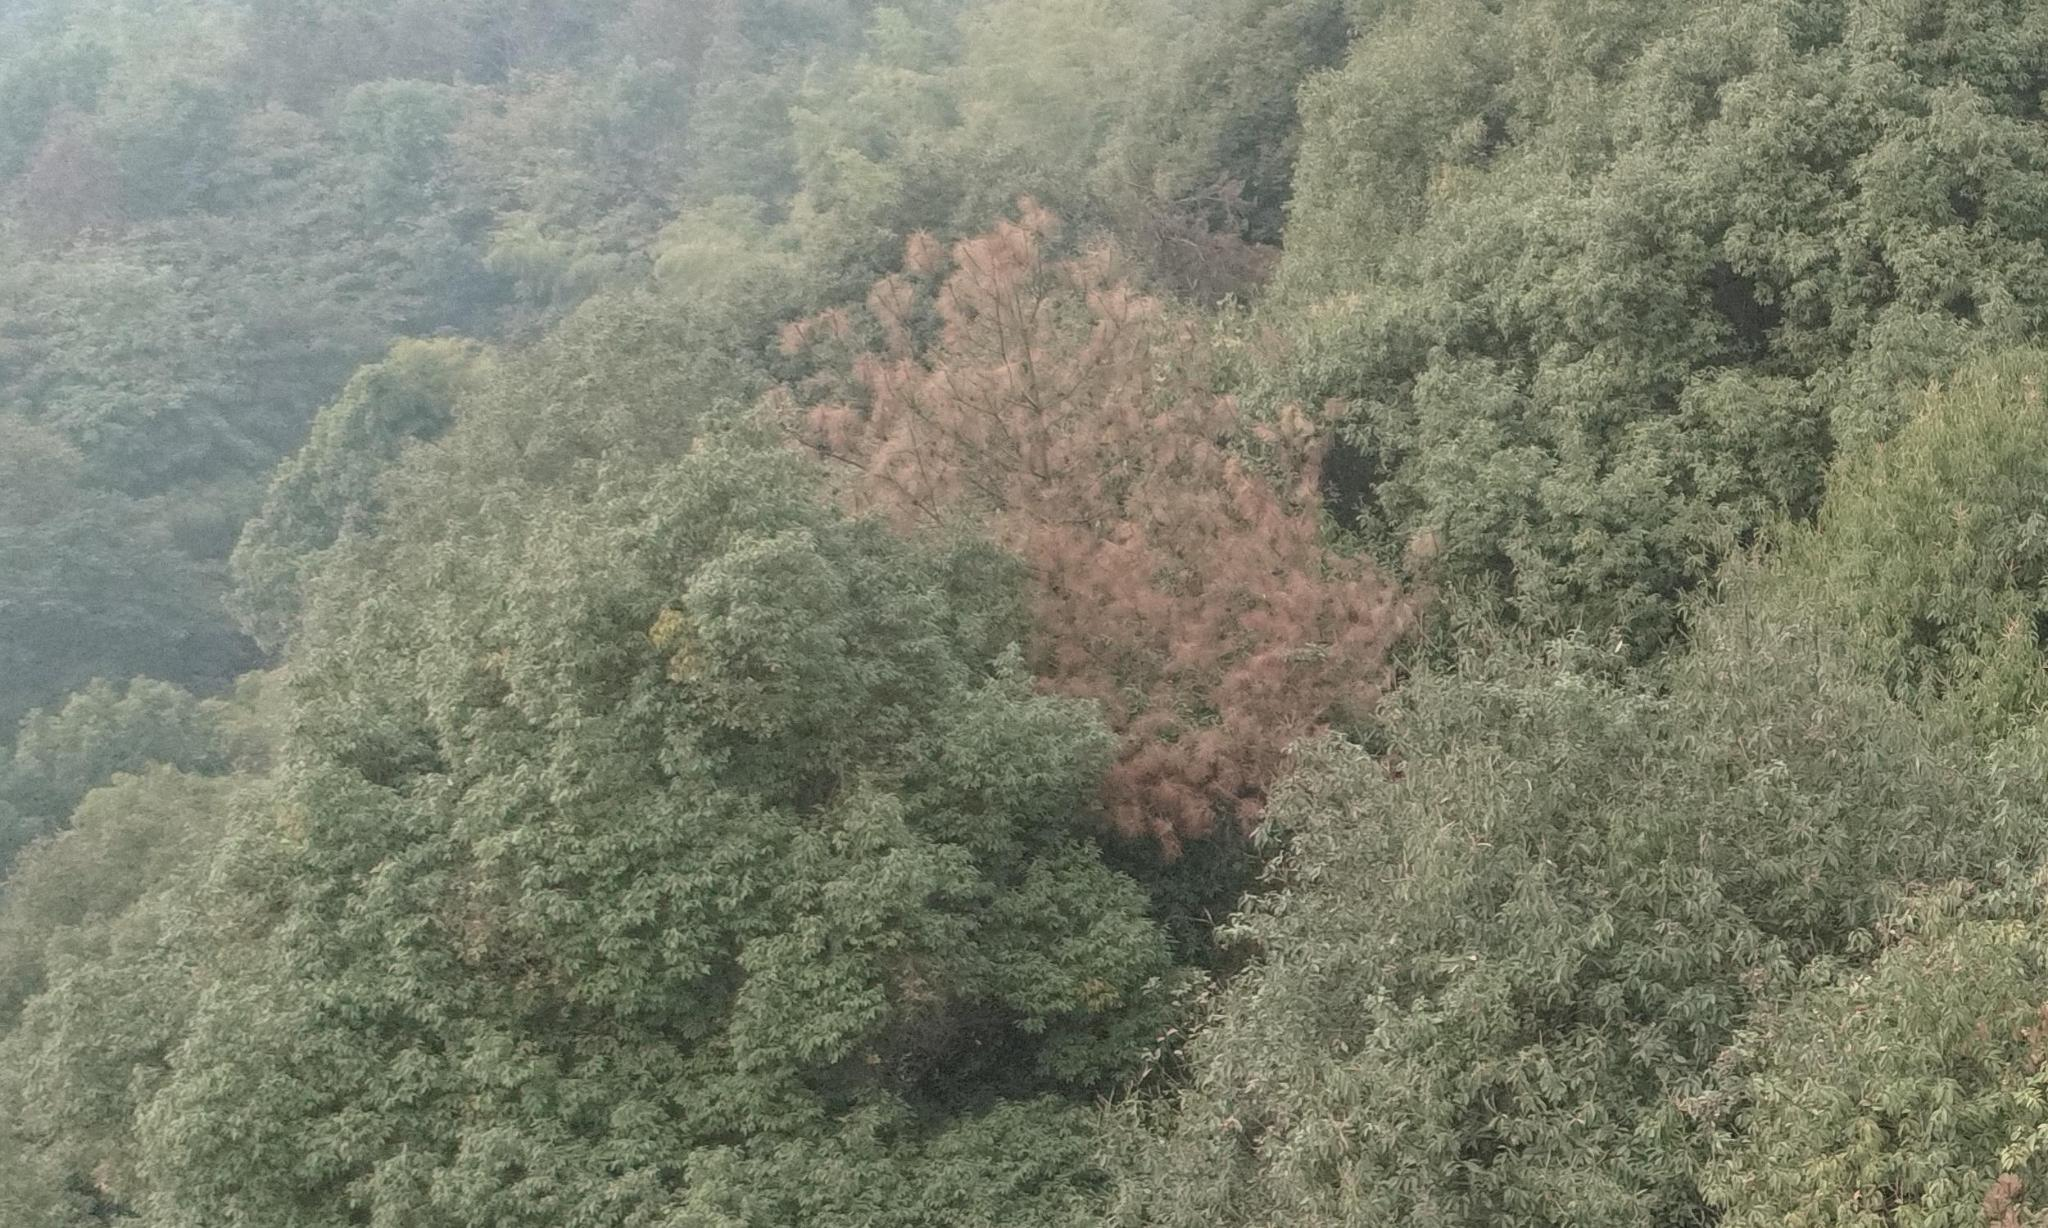heavy: (801, 209, 1441, 858)
